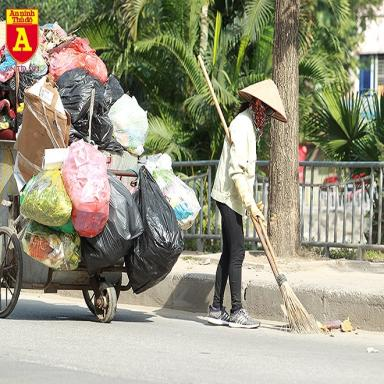plasticbag: (112, 152, 196, 276), (63, 142, 110, 240), (150, 159, 203, 227), (53, 62, 109, 123), (106, 88, 149, 160), (20, 169, 73, 227)
